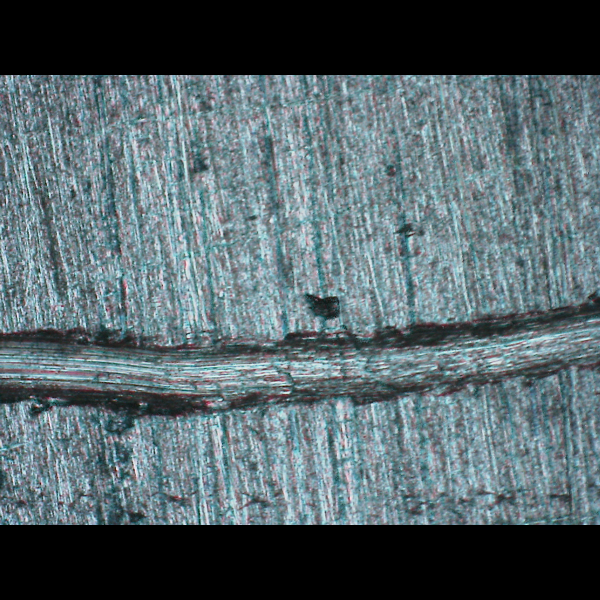d: (0, 287, 599, 420)
